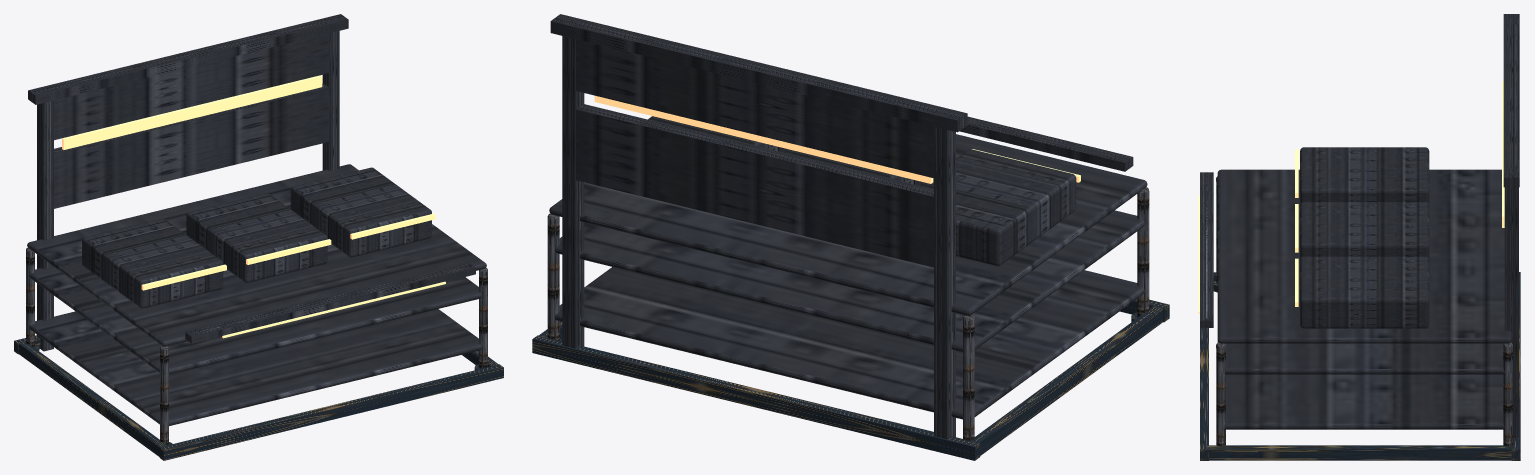
Rendered from engine_partscart.glb.
3 views of the same model, side by side, from view 1: azimuth 30°, elevation 25°; view 2: azimuth 150°, elevation 25°; view 3: azimuth 270°, elevation 25° (orthographic). The views are drawn at different scales.
Visible parts, largest first — view 1: sight_shell, shelf0, shelf2, shelf1, bin0, bin2, bin1, shelltoe0, sightglow, shellrim0, shelltoes0, post00 (+7 smaller); view 2: sight_shell, shelf0, shelf2, shelf1, bin0, shelltoe2, shelltoes0, sightglow, shellrim2, post22, post00, post02 (+3 smaller); view 3: shelf2, shelf0, bin2, shelf1, bin1, bin0, sight_shell, shelltoes2, shellrim0, shelltoe0, shellrim2, post20 (+3 smaller).
Boxes of the visible parts, left/top/right/bottom form: sight_shell: left=28, top=14, right=348, bottom=351; shelf0: left=29, top=309, right=482, bottom=425; shelf2: left=27, top=164, right=486, bottom=346; shelf1: left=29, top=267, right=482, bottom=374; bin0: left=82, top=218, right=223, bottom=308; bin2: left=290, top=167, right=431, bottom=257; bin1: left=186, top=193, right=327, bottom=282; shelltoe0: left=159, top=364, right=503, bottom=460; sightglow: left=62, top=75, right=322, bottom=149; shellrim0: left=187, top=264, right=475, bottom=343; shelltoes0: left=18, top=342, right=168, bottom=456; post00: left=160, top=346, right=168, bottom=445; sight_shell: left=550, top=14, right=967, bottom=439; shelf0: left=555, top=267, right=1144, bottom=419; shelf2: left=549, top=134, right=1147, bottom=315; shelf1: left=555, top=210, right=1144, bottom=352; bin0: left=919, top=149, right=1076, bottom=266; shelltoe2: left=532, top=335, right=980, bottom=460; shelltoes0: left=968, top=305, right=1163, bottom=455; sightglow: left=594, top=95, right=933, bottom=183; shellrim2: left=959, top=121, right=1130, bottom=171; post22: left=547, top=213, right=559, bottom=340; post00: left=1137, top=187, right=1149, bottom=317; post02: left=963, top=315, right=974, bottom=440; shelf2: left=1217, top=169, right=1511, bottom=343; shelf0: left=1224, top=374, right=1504, bottom=429; bin2: left=1300, top=256, right=1429, bottom=328; shelf1: left=1217, top=341, right=1504, bottom=374; bin1: left=1300, top=202, right=1429, bottom=259; bin0: left=1300, top=147, right=1429, bottom=204; sight_shell: left=1503, top=14, right=1519, bottom=437; shelltoes2: left=1206, top=445, right=1514, bottom=460; shellrim0: left=1200, top=172, right=1208, bottom=327; shelltoe0: left=1200, top=328, right=1208, bottom=460; shellrim2: left=1204, top=172, right=1213, bottom=327; post20: left=1216, top=342, right=1225, bottom=446.
Bounding box in the file's own units: 2.34 × 1.7 × 1.8.
7 materials, 5 textured.
